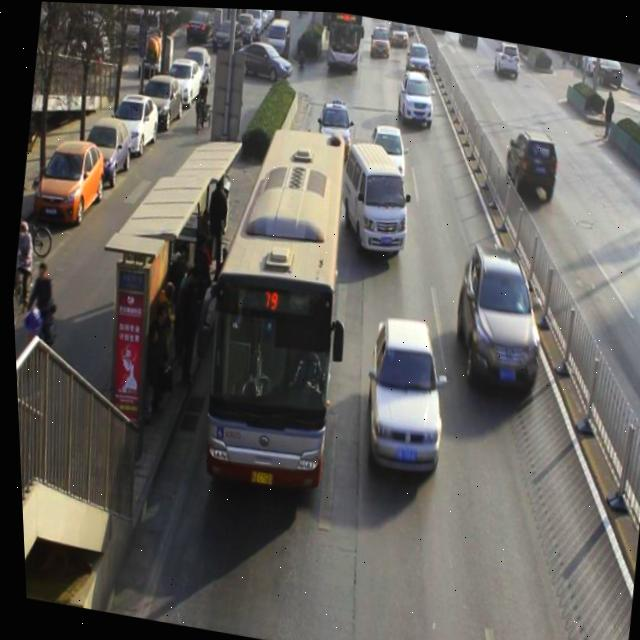car: (440, 242, 555, 401), (352, 314, 454, 478), (499, 127, 561, 203), (362, 120, 413, 191), (395, 68, 438, 127), (315, 97, 355, 156), (492, 36, 524, 80), (404, 41, 435, 79), (368, 22, 393, 54), (385, 18, 410, 49), (457, 29, 480, 47)
truck: (333, 141, 415, 257)
van: (181, 112, 364, 495), (323, 9, 363, 64)
